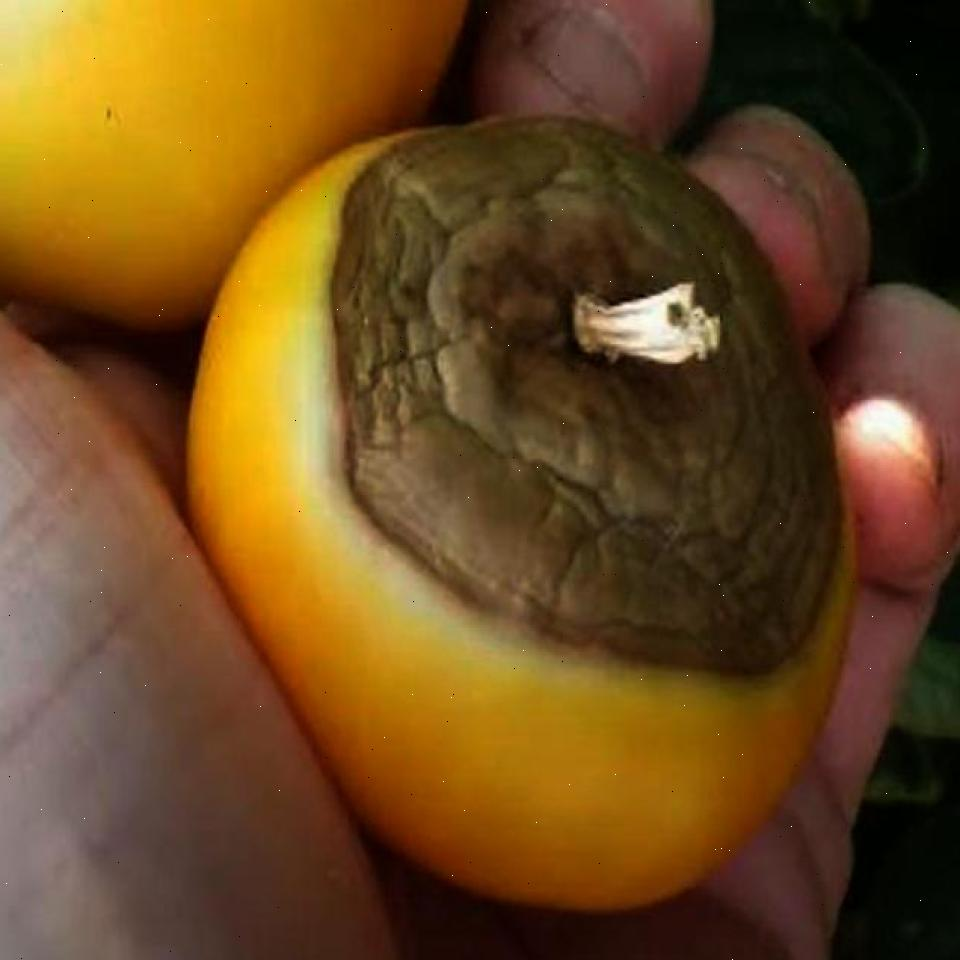Blossom_end_rot: (329, 105, 847, 680)
